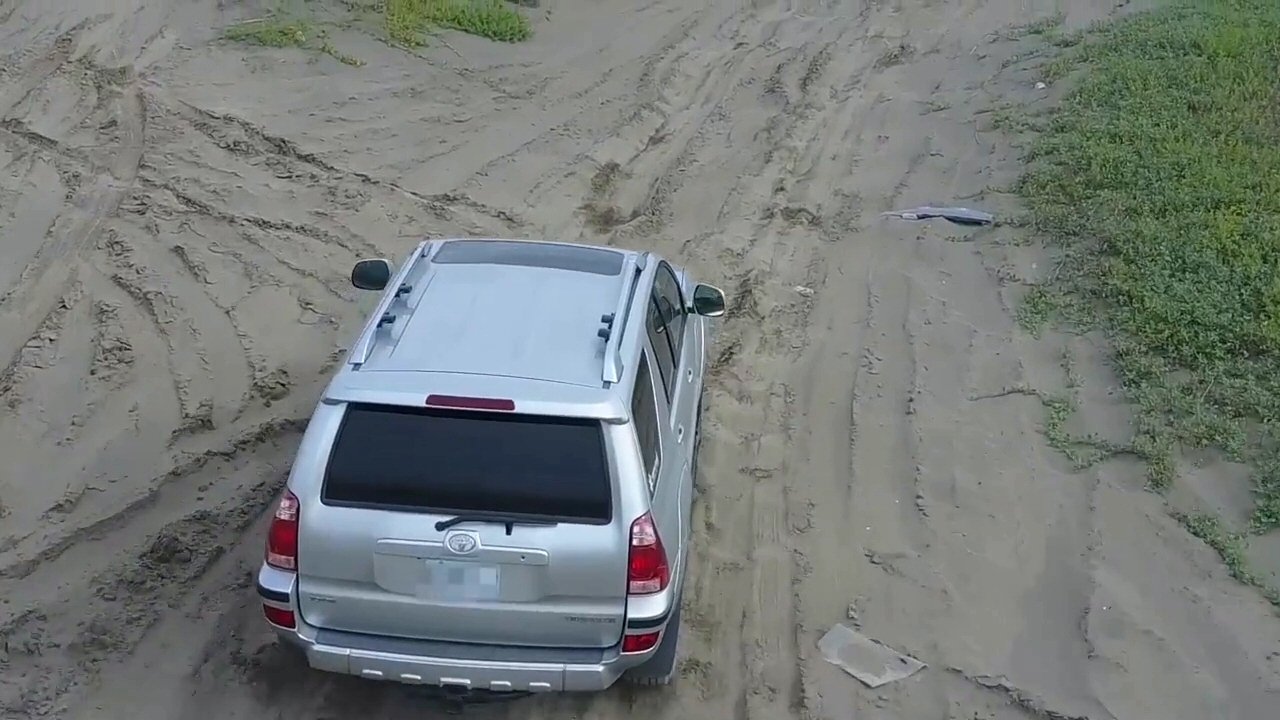araba: (258, 232, 725, 695)
